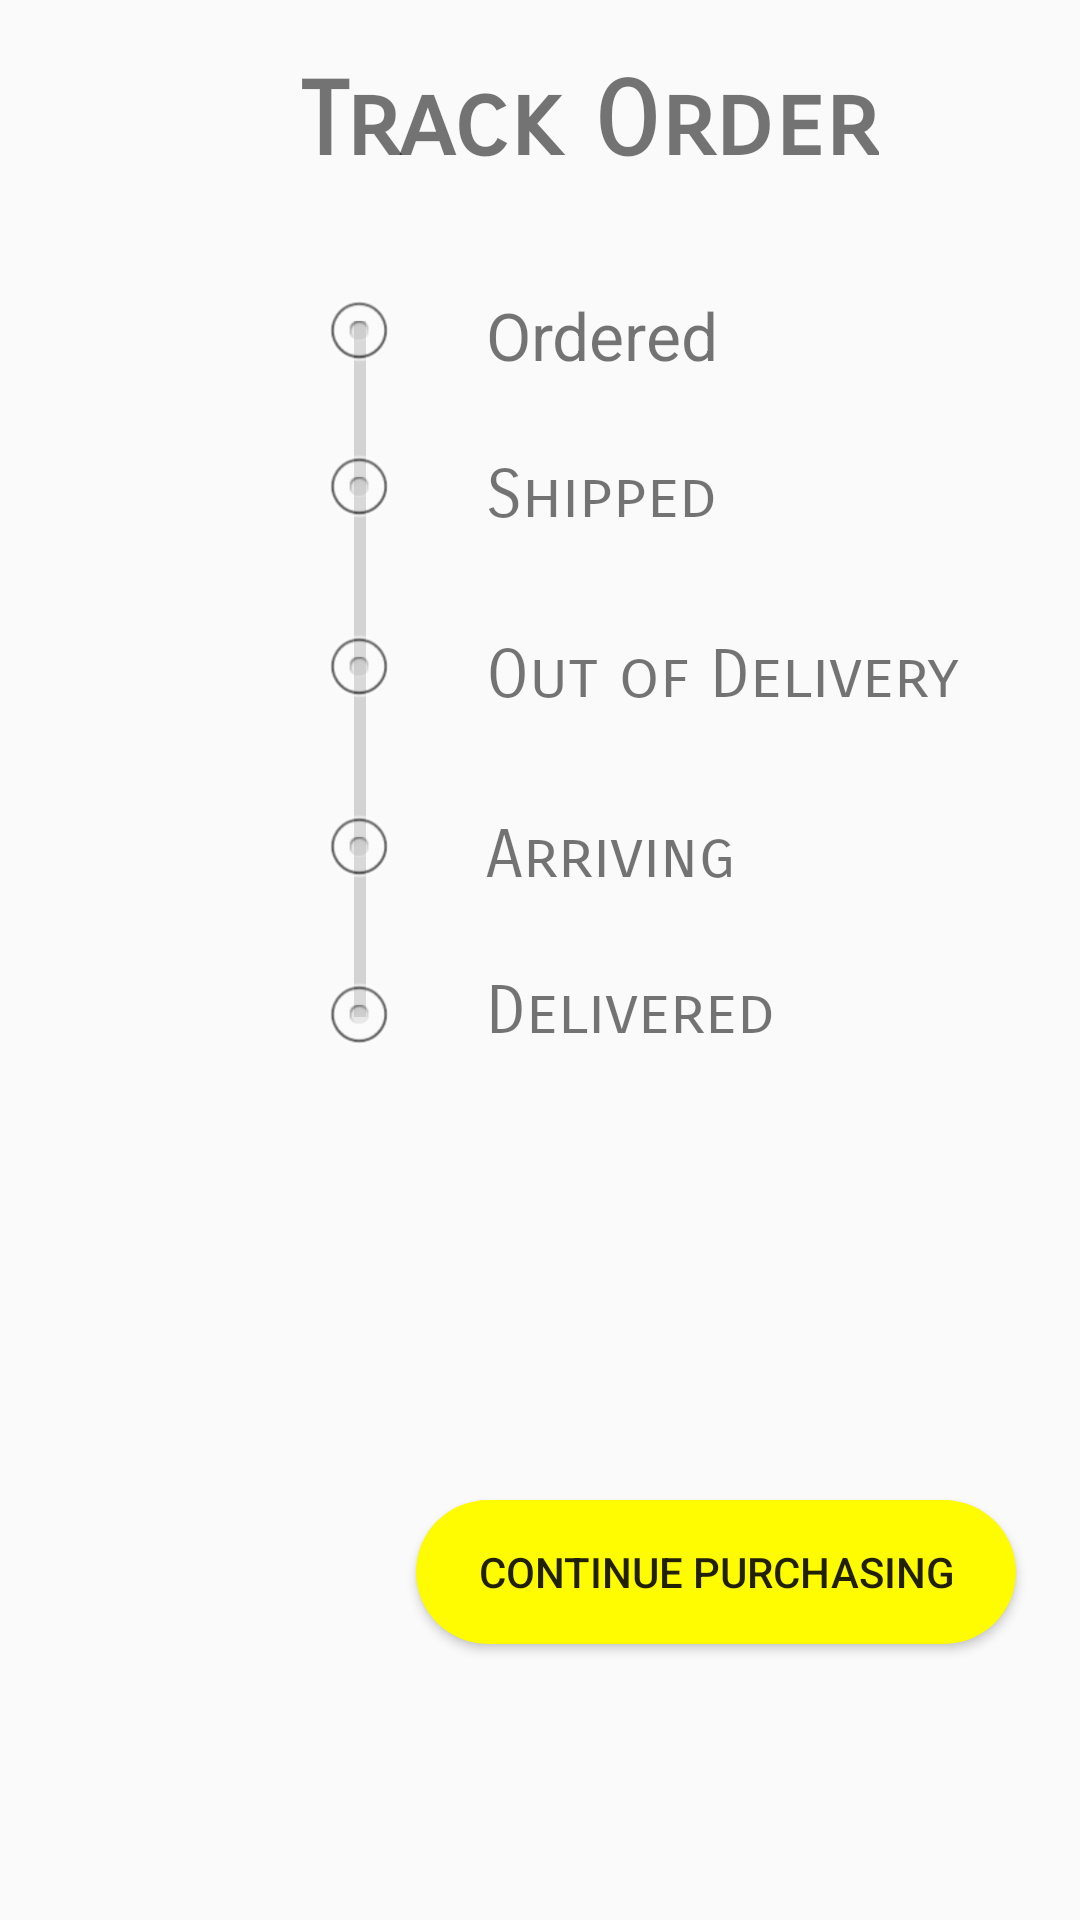

Icon click points for this 1080x1920 phone screenshot, format (x=x, y=y):
radio: (x=359, y=330), (x=359, y=486), (x=359, y=666), (x=359, y=846), (x=359, y=1014)
